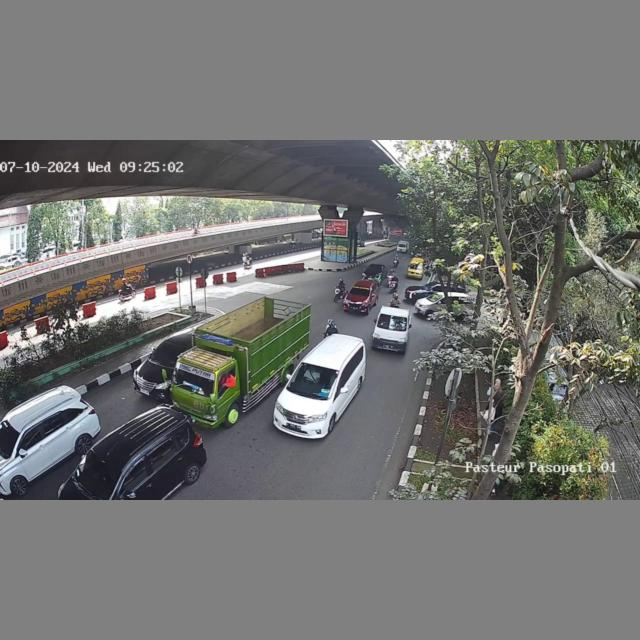windshield: (73, 454, 124, 497), (287, 362, 341, 398), (172, 366, 217, 395), (377, 312, 409, 332), (151, 344, 182, 363), (348, 283, 370, 297)
